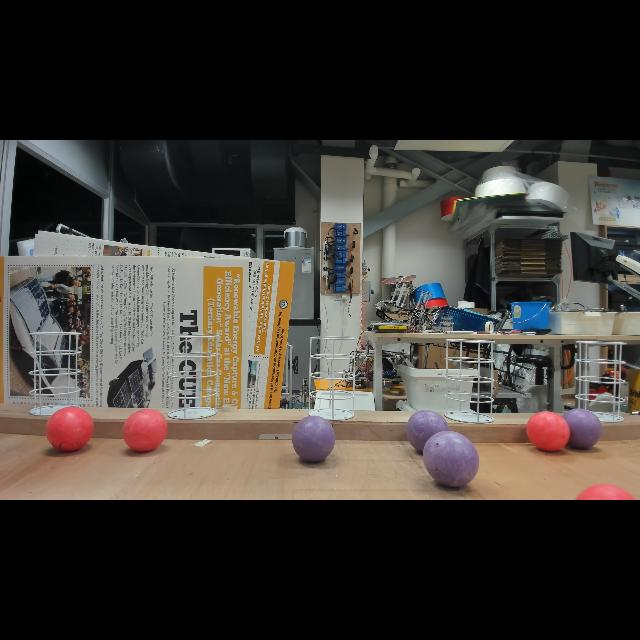P: (422, 430, 480, 488), (292, 415, 336, 463), (406, 410, 450, 454), (558, 408, 602, 450)
R: (45, 406, 95, 452), (122, 408, 168, 454), (526, 411, 570, 453), (574, 482, 634, 500)
S: (28, 332, 82, 416), (167, 334, 219, 421), (443, 338, 495, 424), (575, 340, 627, 424), (308, 336, 357, 422)
